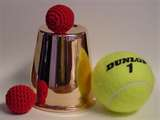tennis ball: (91, 50, 156, 114)
